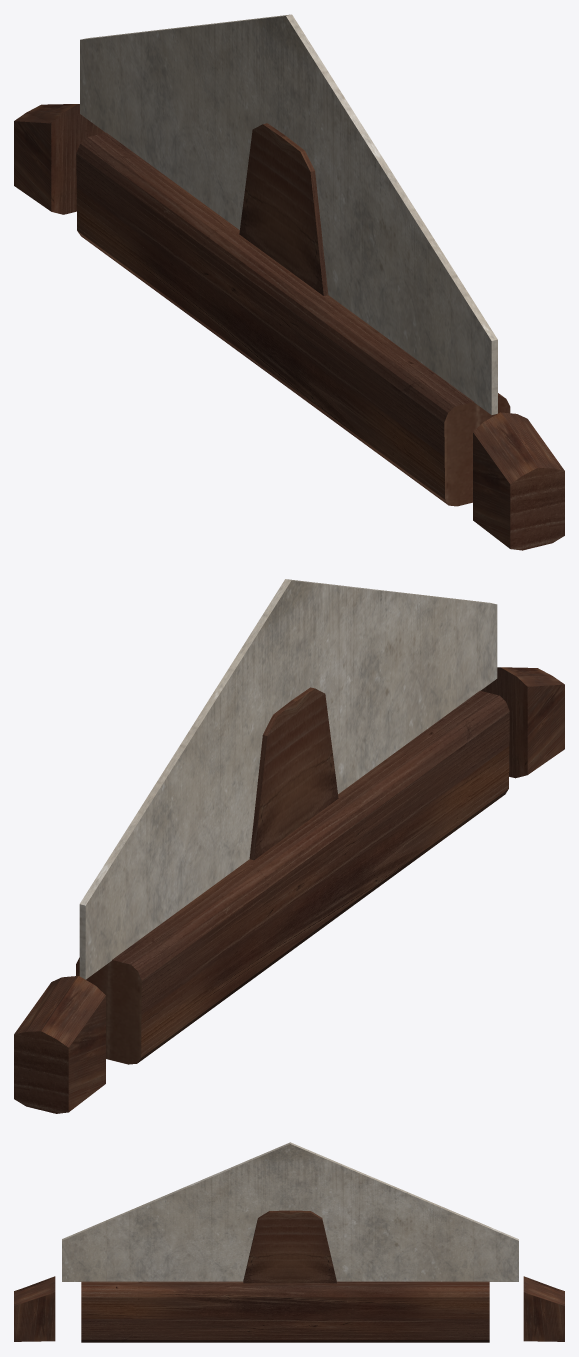
Rendered from SM_R_MiddleBeam_22.fbx.
The picture shows the model from 3 angles, top to bottom: view 1: azimuth 30°, elevation 25°; view 2: azimuth 150°, elevation 25°; view 3: azimuth 270°, elevation 25°; orthographic projection. The views are drawn at different scales.
Visible parts, largest first — view 1: SM_R_MiddleBeam_22; view 2: SM_R_MiddleBeam_22; view 3: SM_R_MiddleBeam_22.
Part boxes in pixels (left/top/right/bottom): SM_R_MiddleBeam_22: left=14, top=14, right=564, bottom=550; SM_R_MiddleBeam_22: left=14, top=579, right=564, bottom=1113; SM_R_MiddleBeam_22: left=14, top=1142, right=564, bottom=1342.
Size of the model in its own units: 28.86 by 376 by 146.
Materials: 3 (3 with a texture image).
